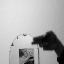h: (31, 30, 60, 51)
